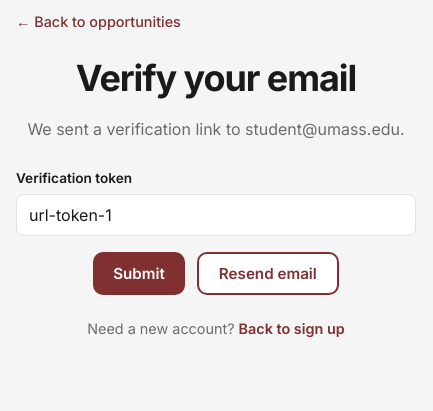
Scenario: VerifyEmailPage › fills a token from the URL and verifies after submit
Expected: the field labelled "Verification token" holds "url-token-1", [16, 194, 416, 236]
What coordinates should you click on to do the following:
click the button "Submit"
I would click on:
 (139, 274)
Its box is [93, 252, 185, 295].
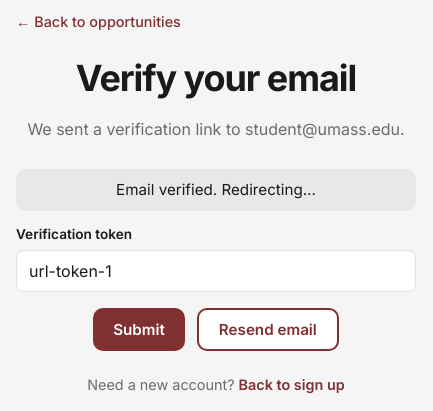
Now the text "Email verified. Redirecting…" is shown, box [16, 169, 416, 211]
